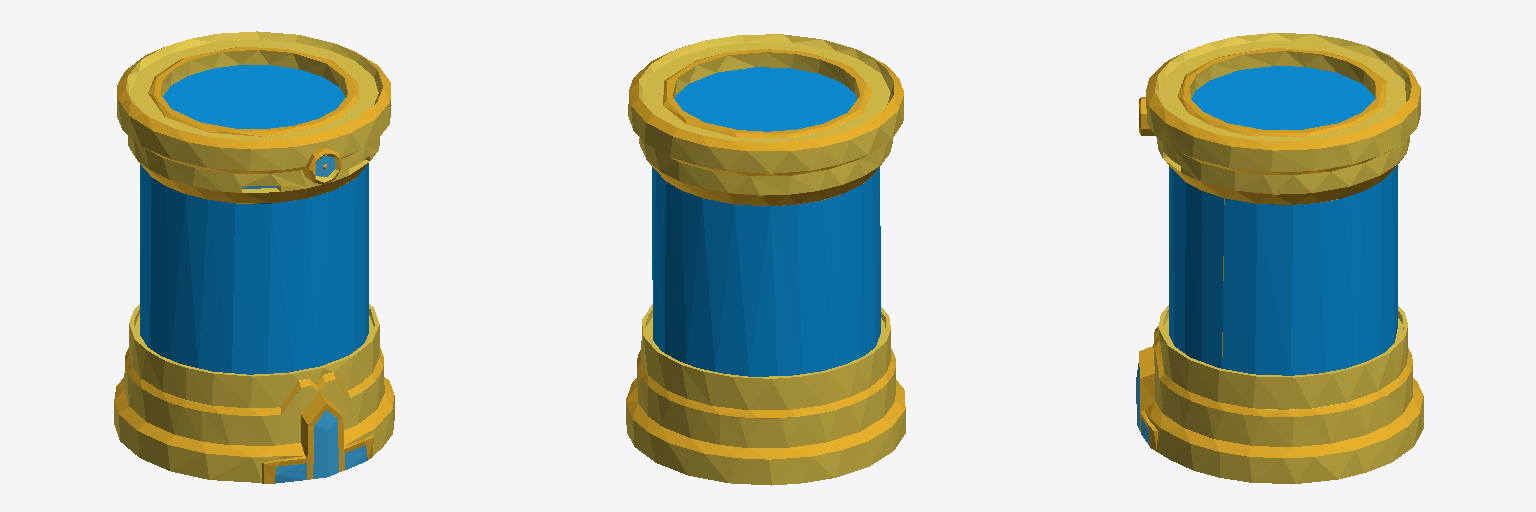
3 views of the same model, side by side, from view 1: azimuth 30°, elevation 25°; view 2: azimuth 150°, elevation 25°; view 3: azimuth 270°, elevation 25° (orthographic).
Visible parts, largest first — view 1: Cylinder; view 2: Cylinder; view 3: Cylinder.
Part boxes in pixels (x1,y1,x2,y2): Cylinder: (114, 31, 394, 483); Cylinder: (626, 34, 905, 485); Cylinder: (1136, 33, 1423, 483).
Size of the model in its own units: 2 by 2.66 by 2.05.
Materials: 1 (1 with a texture image).